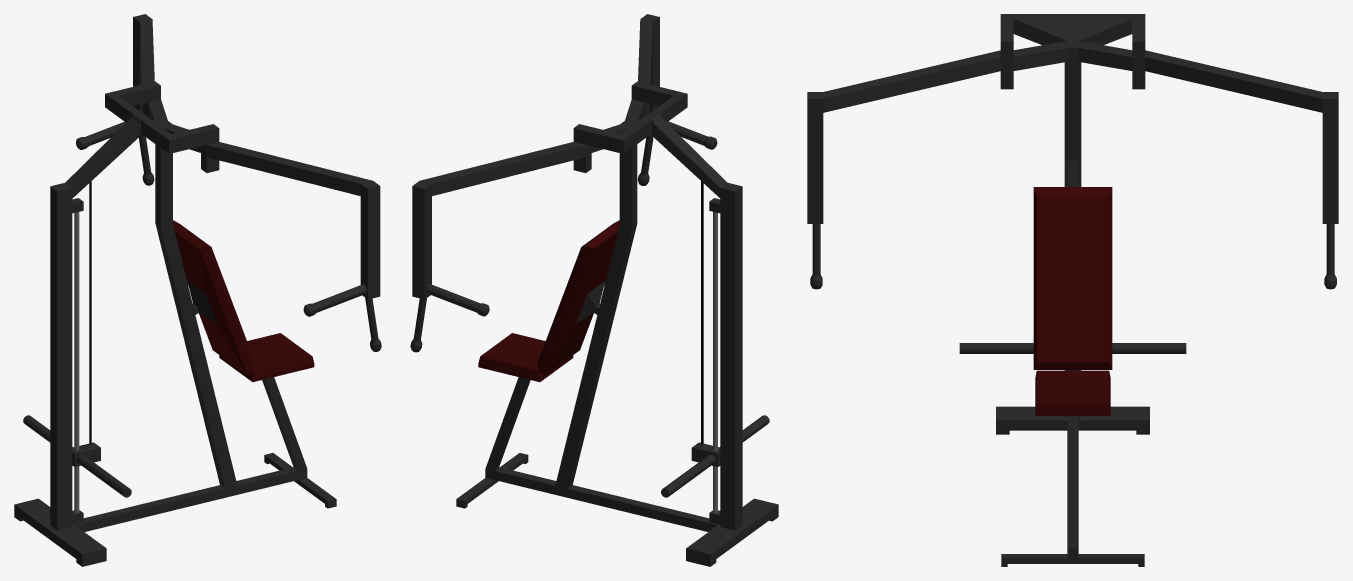
File: PeckFlyMachine.fbx
3 renders of one model, left to right at view 1: azimuth 30°, elevation 25°; view 2: azimuth 150°, elevation 25°; view 3: azimuth 270°, elevation 25°, orthographic. The views are drawn at different scales.
Parts seen in each view (by area): view 1: PeckFlyMachine; view 2: PeckFlyMachine; view 3: PeckFlyMachine.
Boxes of the visible parts, left/top/right/bottom form: PeckFlyMachine: left=14, top=14, right=381, bottom=566; PeckFlyMachine: left=410, top=14, right=778, bottom=566; PeckFlyMachine: left=807, top=14, right=1338, bottom=566.
Size of the model in its own units: 116 by 176 by 184.
